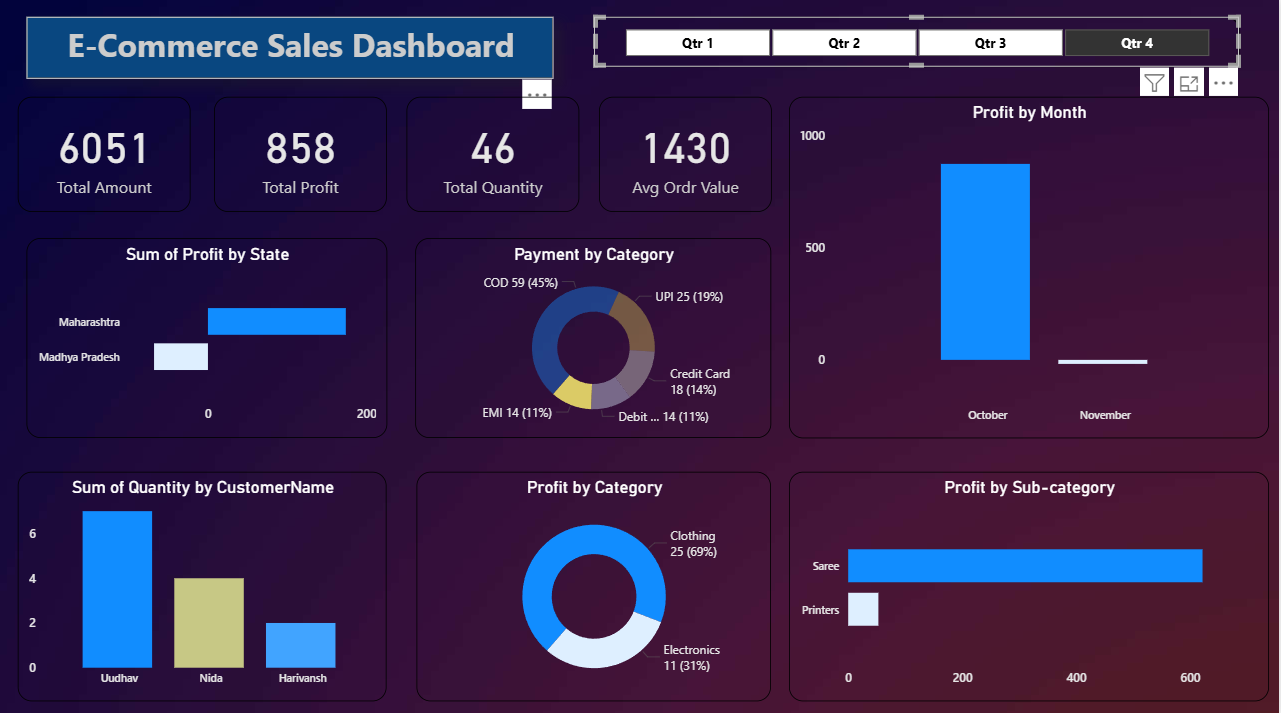

The page's visual inventory and layout, read from the dashboard file:
{"tool":"powerbi","page":{"name":"Page 1","canvas":[1280,720],"ordinal":0},"visuals":[{"type":"textbox","box":[27.4,19,526.2,61.9],"z":0},{"type":"columnChart","title":"Profit by Month","fields":{"Category":["Orders.Order Date.Variation.Date Hierarchy.Month"],"Y":["Sum(Details.Profit)"]},"box":[790.5,98.8,479.8,341.7],"z":1000},{"type":"clusteredBarChart","title":"Profit by Sub-category","fields":{"Y":["Sum(Details.Profit)"],"Category":["Details.Sub-Category"]},"box":[790.5,473.8,479.8,229.8],"z":2000},{"type":"donutChart","title":"Profit by Category","fields":{"Category":["Details.Category"],"Y":["Sum(Details.Quantity)"]},"box":[417.9,473.8,354.8,229.8],"z":2001},{"type":"donutChart","title":"Payment by Category","fields":{"Y":["CountNonNull(Details.Category)"],"Category":["Details.PaymentMode"]},"box":[416.7,240.5,356,200],"z":2002},{"type":"card","fields":{"Values":["Sum(Details.Amount)"]},"box":[19,98.8,172.6,115.5],"z":2003},{"type":"card","fields":{"Values":["Sum(Details.Profit)"]},"box":[215.5,98.8,172.6,115.5],"z":2004},{"type":"card","fields":{"Values":["Sum(Details.Quantity)"]},"box":[407.1,98.8,172.6,115.5],"z":2005},{"type":"card","fields":{"Values":["Sum(Details.Avg Ordr Value)"]},"box":[600,98.8,172.6,115.5],"z":2006},{"type":"barChart","fields":{"Category":["Orders.State"],"Y":["Sum(Details.Profit)"]},"box":[27.4,240.5,360.7,200],"z":2007},{"type":"columnChart","fields":{"Y":["Sum(Details.Quantity)"],"Category":["Orders.CustomerName"]},"box":[19,473.8,369,229.8],"z":2008},{"type":"slicer","fields":{"Values":["Orders.Order Date.Variation.Date Hierarchy.Quarter"]},"box":[595.2,19,645.2,50],"z":2009}]}

Visuals, with their boxes in screenshot pixels (x1, y1, x2, y2), scaled from the page's 1280x720 canvas onto the 1281x713 screenshot:
textbox: 27 19 554 80
"Profit by Month" columnChart: 791 98 1271 436
"Profit by Sub-category" clusteredBarChart: 791 469 1271 697
"Profit by Category" donutChart: 418 469 773 697
"Payment by Category" donutChart: 417 238 773 436
card - Sum(Details.Amount): 19 98 192 212
card - Sum(Details.Profit): 216 98 388 212
card - Sum(Details.Quantity): 407 98 580 212
card - Sum(Details.Avg Ordr Value): 600 98 773 212
barChart - Orders.State x Sum(Details.Profit): 27 238 388 436
columnChart - Sum(Details.Quantity) x Orders.CustomerName: 19 469 388 697
slicer - Orders.Order Date.Variation.Date Hierarchy.Quarter: 596 19 1241 68
